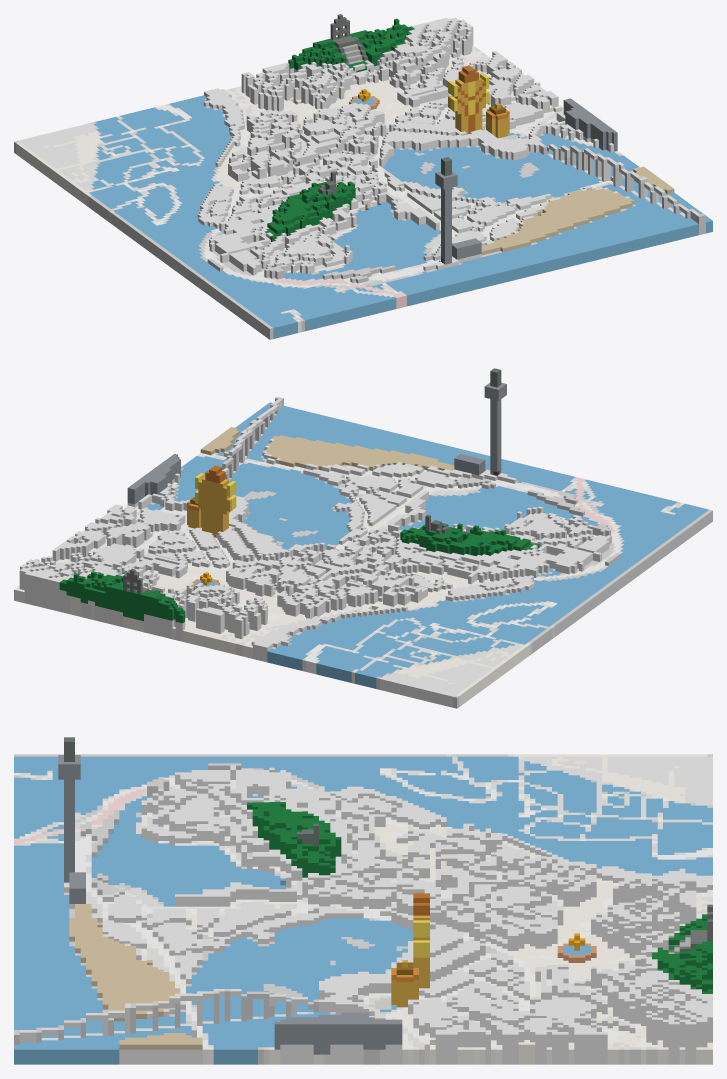
Rendered from 200607 macau ver2-1.obj.
3 views of the same model, one above another, from view 1: azimuth 30°, elevation 25°; view 2: azimuth 150°, elevation 25°; view 3: azimuth 270°, elevation 25° (orthographic). The views are drawn at different scales.
Size of the model in its own units: 12.6 by 3.2 by 12.6.
1 material, 1 textured.
